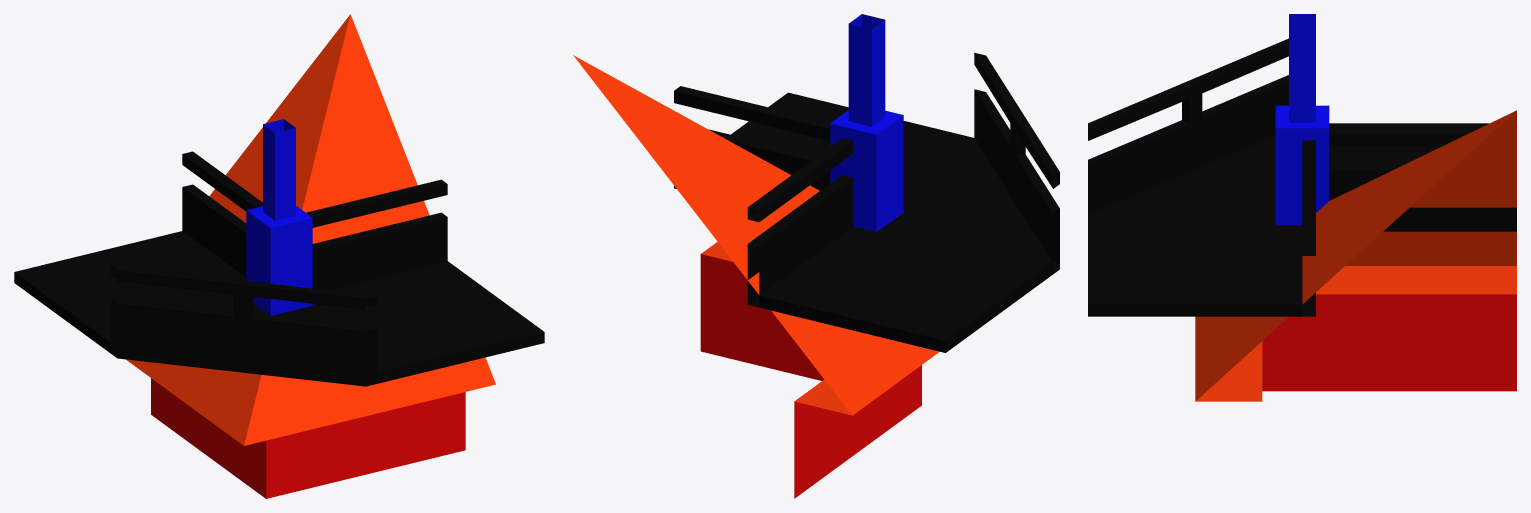
Rendered from None_S_P_E_E_P_E_E_E_BigStrut.fbx.
3 renders of one model, left to right at view 1: azimuth 30°, elevation 25°; view 2: azimuth 150°, elevation 25°; view 3: azimuth 270°, elevation 25°, orthographic. The views are drawn at different scales.
Visible parts, largest first — view 1: None_S_P_E_E_P_E_E_E_BigStrut; view 2: None_S_P_E_E_P_E_E_E_BigStrut; view 3: None_S_P_E_E_P_E_E_E_BigStrut.
Boxes of the visible parts, x1,y1,x2,y2 form: None_S_P_E_E_P_E_E_E_BigStrut: [14, 14, 544, 498]; None_S_P_E_E_P_E_E_E_BigStrut: [573, 14, 1059, 498]; None_S_P_E_E_P_E_E_E_BigStrut: [1088, 14, 1516, 401].
Bounding box in the file's own units: 100 × 100 × 100.
